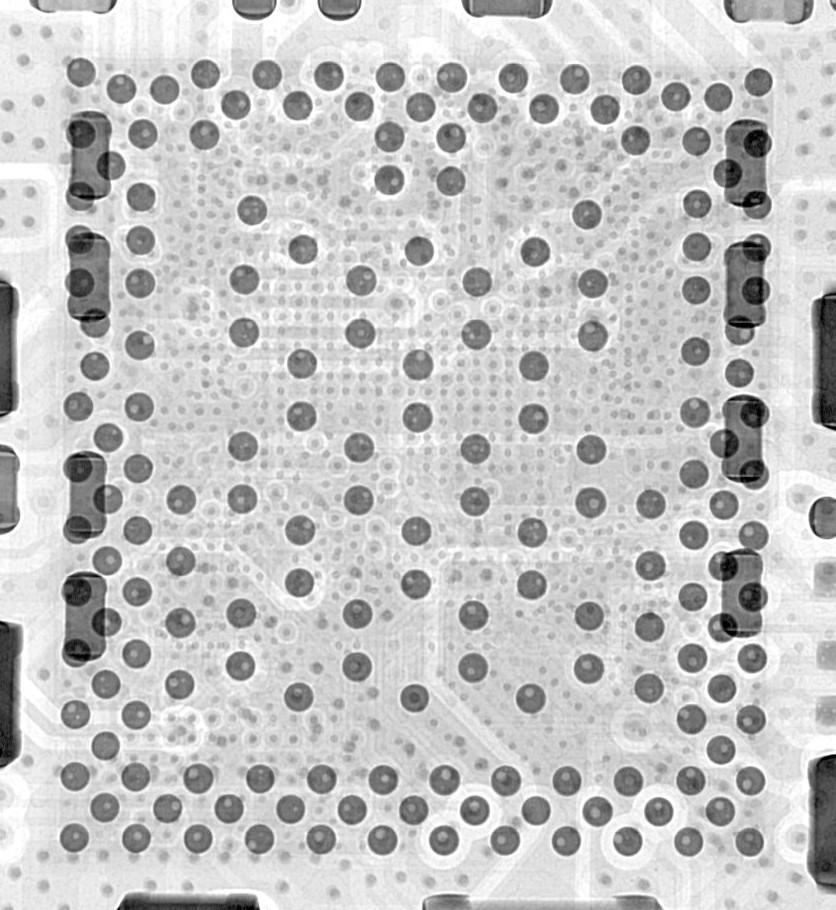Contour: (227, 426, 261, 466), (342, 313, 377, 351), (164, 482, 200, 517), (575, 318, 610, 353), (515, 401, 551, 435), (574, 485, 608, 521), (573, 650, 606, 687), (635, 547, 668, 583), (515, 679, 547, 716), (227, 263, 262, 296)
